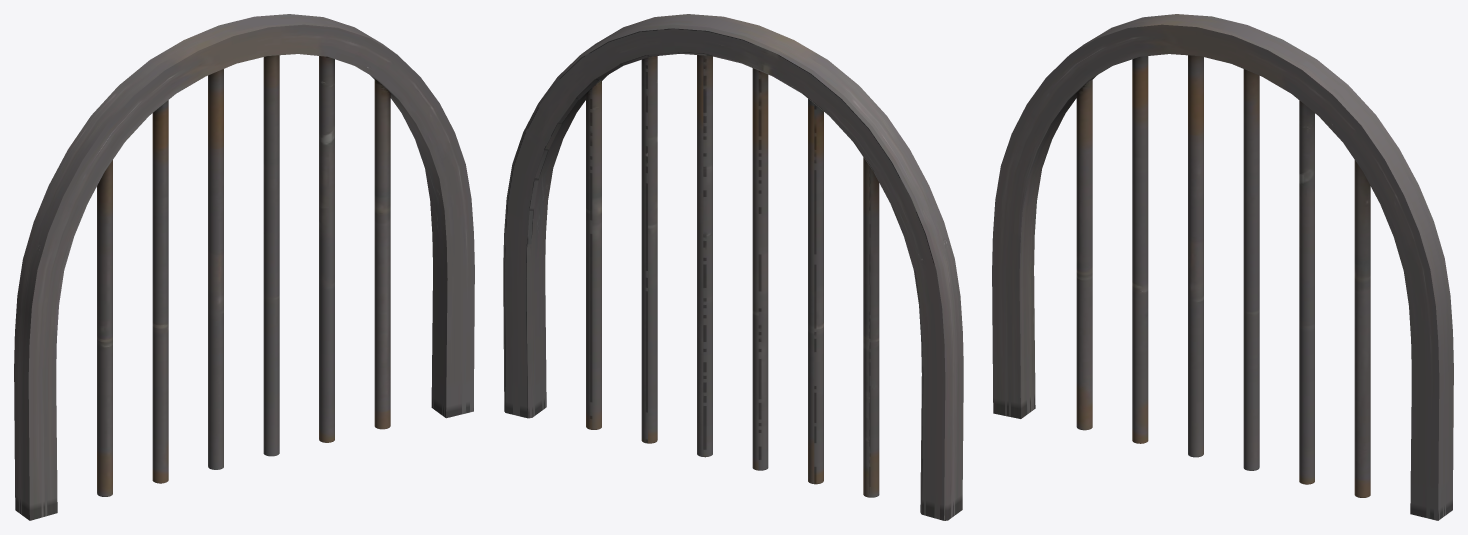
3 renders of one model, left to right at view 1: azimuth 30°, elevation 25°; view 2: azimuth 150°, elevation 25°; view 3: azimuth 330°, elevation 25°, orthographic.
Visible parts, largest first — view 1: body0_model0_lod0_mesh0; view 2: body0_model0_lod0_mesh0; view 3: body0_model0_lod0_mesh0.
Part boxes in pixels (x1,y1,x2,y2): body0_model0_lod0_mesh0: (14,14,474,520); body0_model0_lod0_mesh0: (503,14,963,520); body0_model0_lod0_mesh0: (992,14,1453,520).
Size of the model in its own units: 129 by 120 by 8.
Materials: 1 (1 with a texture image).
